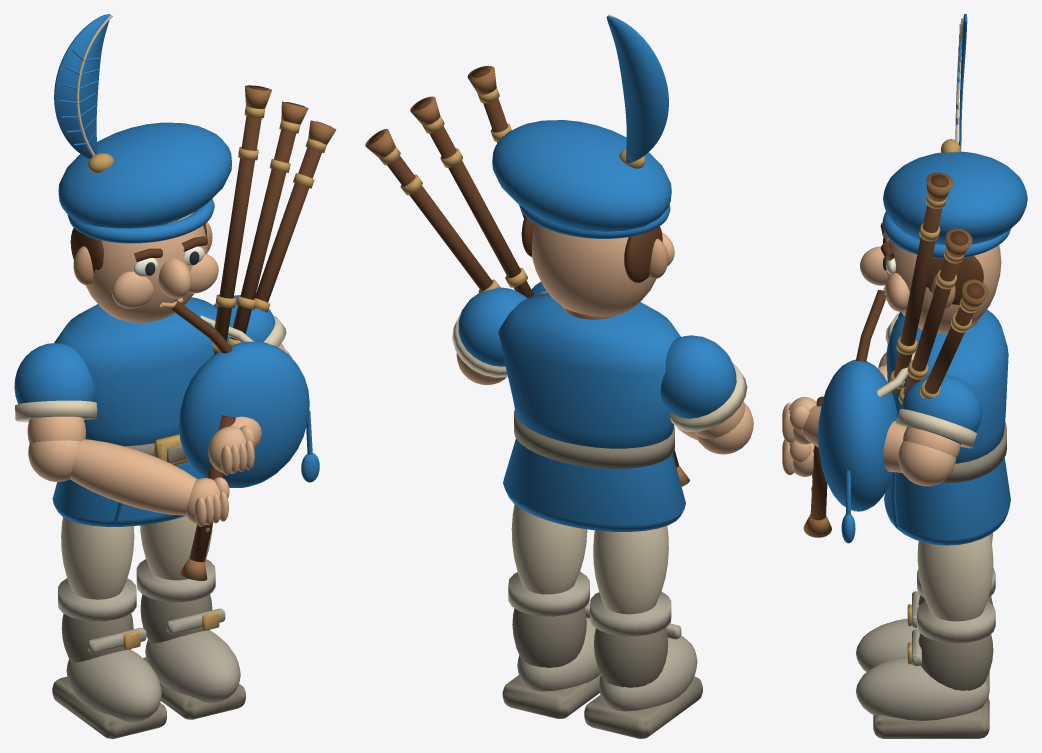
File: muzikant_senior.glb
3 renders of one model, left to right at view 1: azimuth 30°, elevation 25°; view 2: azimuth 150°, elevation 25°; view 3: azimuth 270°, elevation 25°, orthographic. The views are drawn at different scales.
Visible parts, largest first — view 1: Tunic_torso.002, TEAM_Felt_beret.002, Bagpipe_TEAM_felt_bag, Bagpipe_lower_hand_Forearm, Boot_toe.004, Boot_toe.005, Trouser_leg.004, Head.002, TEAM_Large_feather, Bagpipe_lower_hand_Felt_sleeve, Tunic_skirt.002, Bagpipe_drone_1 (+25 smaller); view 2: Tunic_torso.002, TEAM_Felt_beret.002, Tunic_skirt.002, Head.002, Trouser_leg.004, TEAM_Large_feather, Bagpipe_lower_hand_Felt_sleeve, Trouser_leg.005, Boot_shaft.005, Boot_shaft.004, Belt.002, Boot_toe.004 (+13 smaller); view 3: TEAM_Felt_beret.002, Bagpipe_TEAM_felt_bag, Tunic_skirt.002, Tunic_torso.002, Boot_toe.005, Trouser_leg.005, Boot_shaft.005, Bagpipe_upper_hand_Felt_sleeve, Boot_sole.005, Head.002, Bagpipe_drone_1, Boot_cuff.005 (+20 smaller).
Boxes of the visible parts, x1=… form: Tunic_torso.002: x1=54, y1=297, x2=230, y2=446; TEAM_Felt_beret.002: x1=58, y1=122, x2=231, y2=228; Bagpipe_TEAM_felt_bag: x1=179, y1=341, x2=309, y2=487; Bagpipe_lower_hand_Forearm: x1=70, y1=439, x2=197, y2=515; Boot_toe.004: x1=66, y1=649, x2=161, y2=722; Boot_toe.005: x1=145, y1=630, x2=240, y2=703; Trouser_leg.004: x1=61, y1=517, x2=134, y2=599; Head.002: x1=85, y1=212, x2=207, y2=322; TEAM_Large_feather: x1=54, y1=14, x2=110, y2=158; Bagpipe_lower_hand_Felt_sleeve: x1=14, y1=343, x2=95, y2=403; Tunic_skirt.002: x1=52, y1=462, x2=203, y2=526; Bagpipe_drone_1: x1=214, y1=116, x2=261, y2=354; Tunic_torso.002: x1=498, y1=293, x2=680, y2=448; TEAM_Felt_beret.002: x1=492, y1=120, x2=671, y2=231; Tunic_skirt.002: x1=503, y1=438, x2=685, y2=531; Head.002: x1=531, y1=223, x2=661, y2=316; Trouser_leg.004: x1=593, y1=526, x2=668, y2=614; TEAM_Large_feather: x1=606, y1=16, x2=668, y2=162; Bagpipe_lower_hand_Felt_sleeve: x1=660, y1=335, x2=736, y2=418; Trouser_leg.005: x1=511, y1=504, x2=587, y2=594; Boot_shaft.005: x1=512, y1=608, x2=586, y2=667; Boot_shaft.004: x1=594, y1=628, x2=668, y2=687; Belt.002: x1=514, y1=410, x2=674, y2=468; Boot_toe.004: x1=598, y1=636, x2=697, y2=711; TEAM_Felt_beret.002: x1=883, y1=151, x2=1027, y2=245; Bagpipe_TEAM_felt_bag: x1=818, y1=359, x2=897, y2=511; Tunic_skirt.002: x1=884, y1=458, x2=1010, y2=545; Tunic_torso.002: x1=886, y1=309, x2=1008, y2=463; Boot_toe.005: x1=856, y1=657, x2=989, y2=720; Trouser_leg.005: x1=917, y1=535, x2=993, y2=621; Boot_shaft.005: x1=918, y1=633, x2=993, y2=690; Bagpipe_upper_hand_Felt_sleeve: x1=902, y1=374, x2=981, y2=444; Boot_sole.005: x1=873, y1=697, x2=989, y2=738; Head.002: x1=887, y1=234, x2=1001, y2=333; Bagpipe_drone_1: x1=892, y1=205, x2=942, y2=394; Boot_cuff.005: x1=917, y1=601, x2=995, y2=643.
Size of the model in its own units: 1.33 by 2.57 by 0.844.
